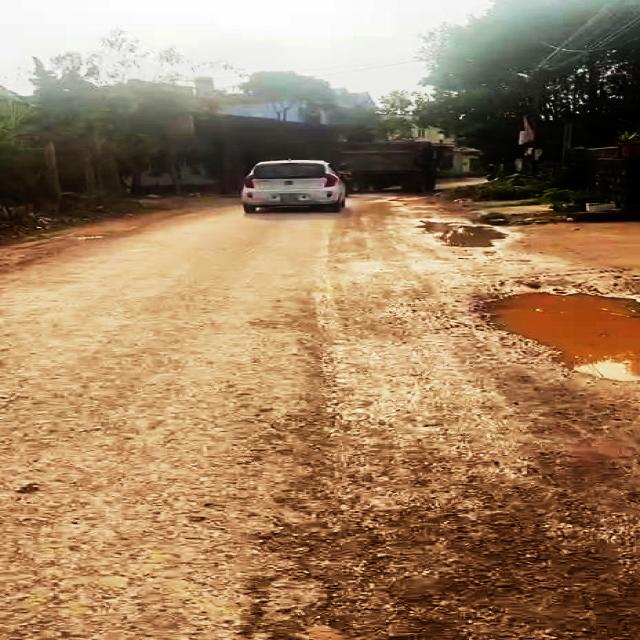pothole: (473, 282, 640, 384), (414, 220, 512, 252)
